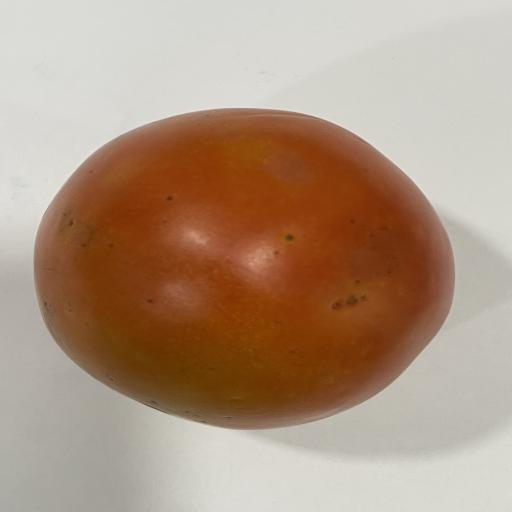unripe: (35, 109, 454, 429)
